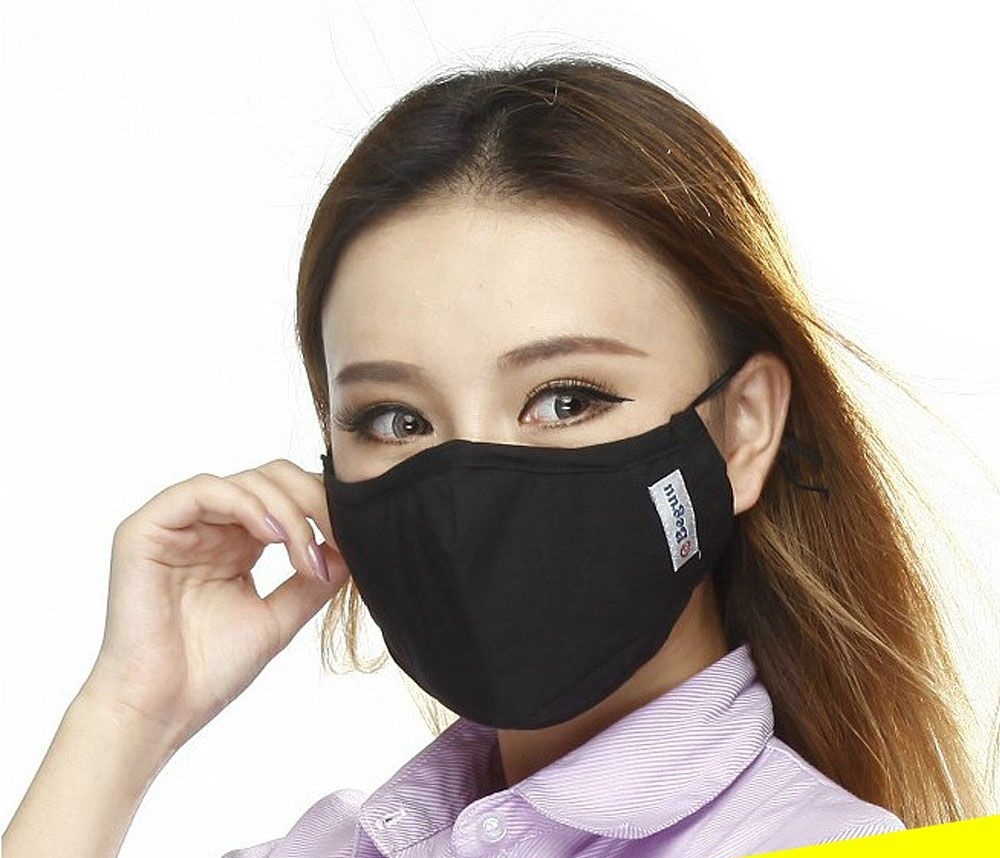face_mask: (319, 215, 730, 739)
